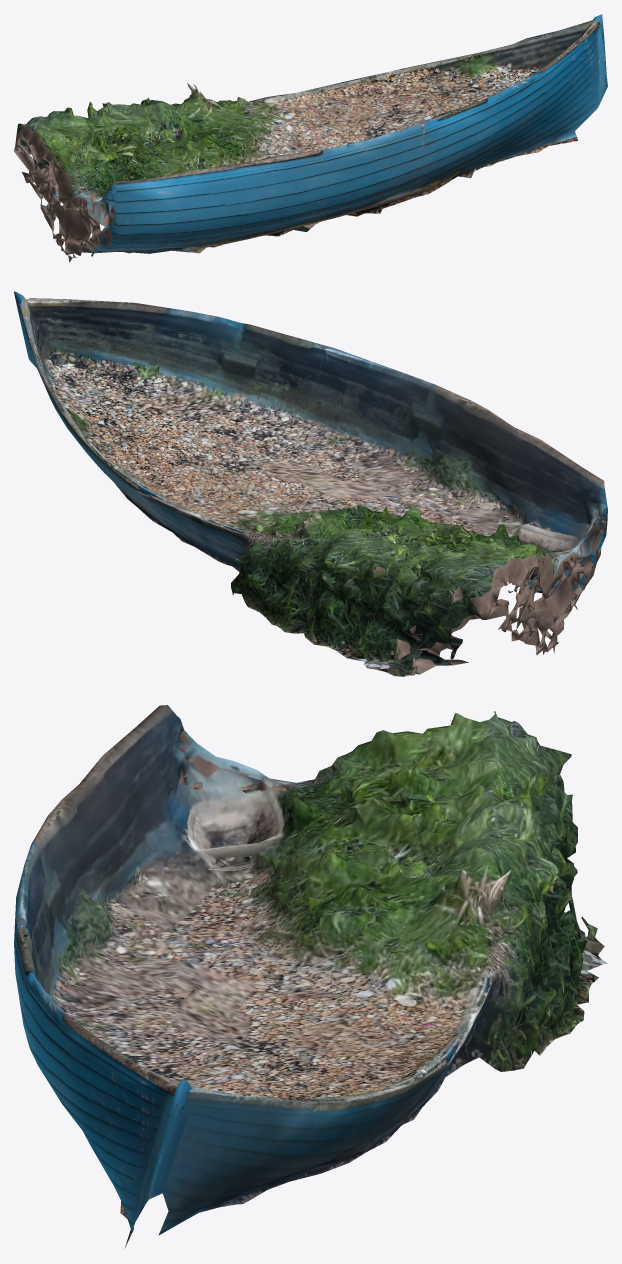
File: boat.fbx
3 renders of one model, top to bottom at view 1: azimuth 30°, elevation 25°; view 2: azimuth 150°, elevation 25°; view 3: azimuth 270°, elevation 25°, orthographic. The views are drawn at different scales.
Parts seen in each view (by area): view 1: mesh_low; view 2: mesh_low; view 3: mesh_low.
Part boxes in pixels (x1,y1,x2,y2): mesh_low: (14,14,607,262); mesh_low: (14,291,607,676); mesh_low: (14,705,607,1248).
Size of the model in its own units: 388 by 117 by 208.
1 material, 1 textured.
